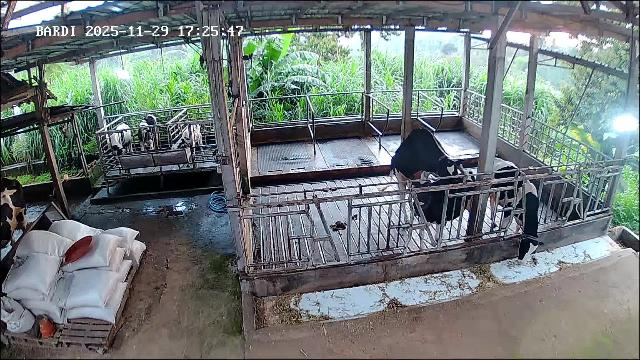mounting: (388, 125, 465, 208)
